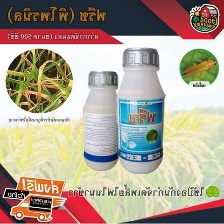insecticide: (115, 43, 167, 177), (80, 67, 124, 173)
